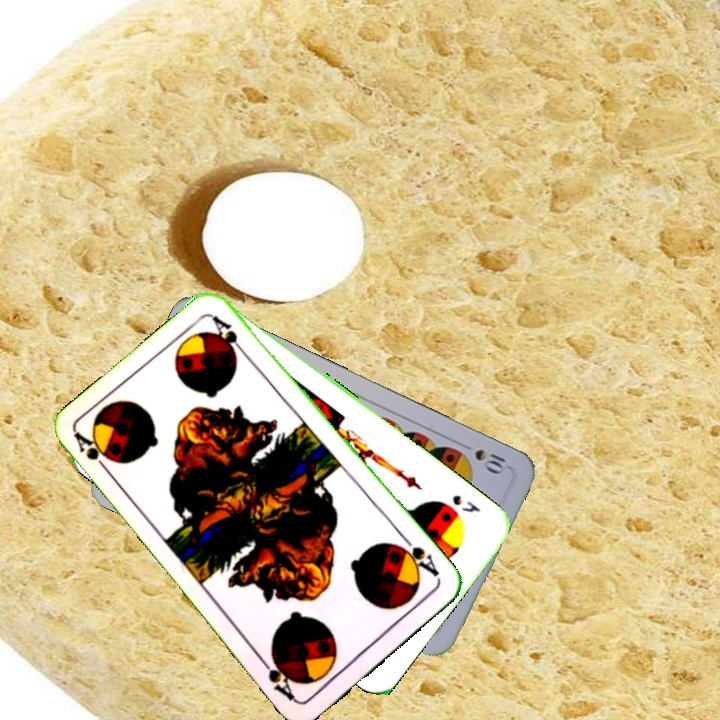S10: (456, 438, 509, 477)
SA: (392, 533, 442, 583), (70, 428, 115, 479)
SK: (448, 490, 483, 516)
